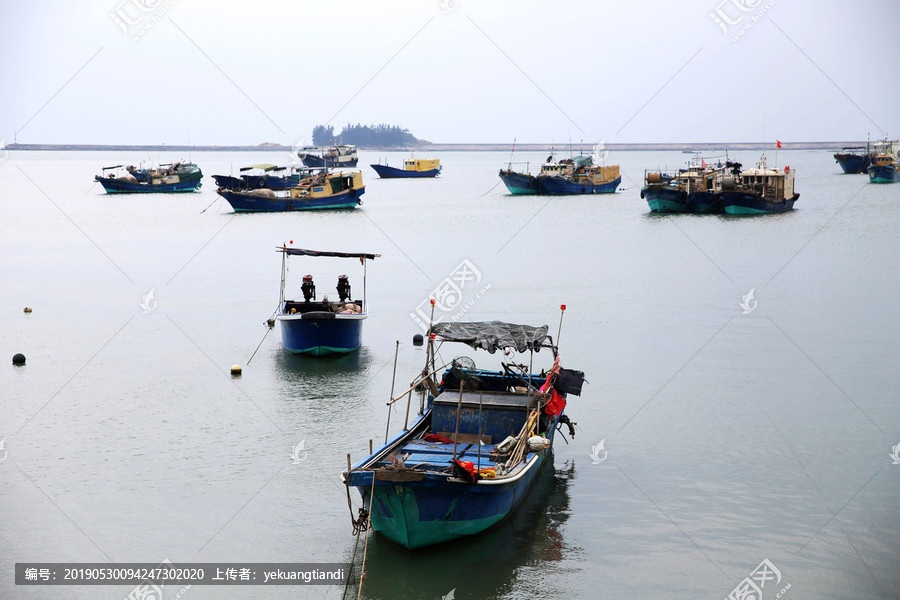otherboat: (345, 295, 580, 545), (273, 232, 386, 370), (207, 165, 373, 217), (490, 145, 624, 207), (629, 159, 741, 213), (702, 158, 796, 218), (88, 158, 207, 202), (831, 133, 890, 174), (370, 154, 443, 185), (864, 144, 900, 185)
